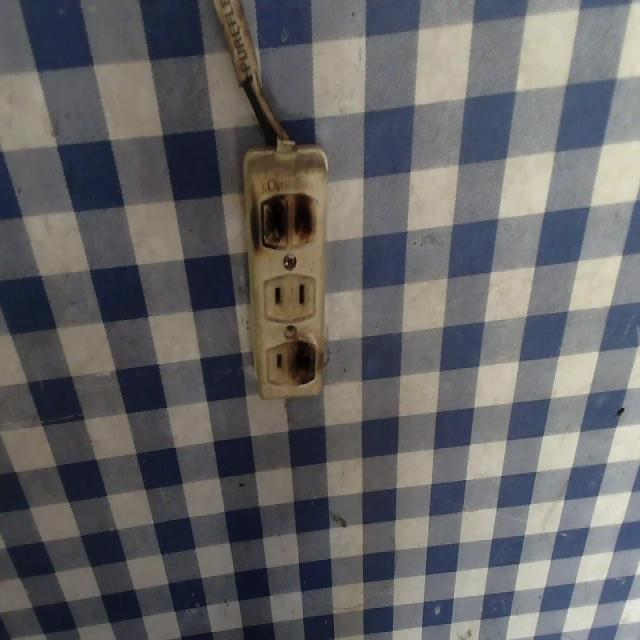-: (247, 187, 321, 254), (286, 334, 318, 386)
